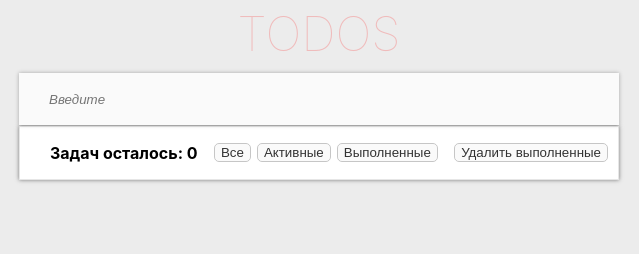
Scenario: Add Task & delete task
The image size is (639, 254).
Type "Пункт 1" into the field with test id "input-data" at [319, 99], box [19,73,619,125]
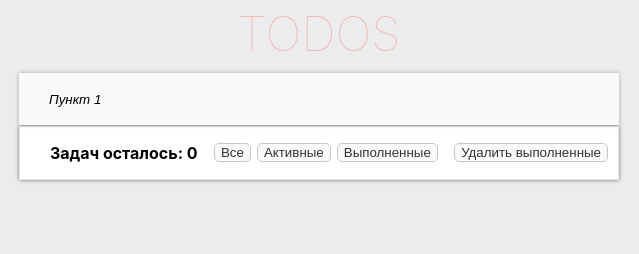
Press Enter in the field with test id "input-data", box [19,73,619,125]
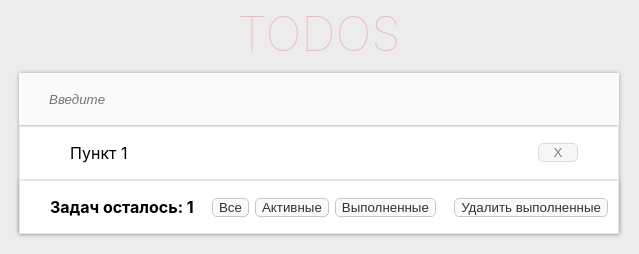
Check: the text with test id "input-result" reads "Пункт 1", box [70,142,128,162]
Click the button with test id "delete-elem" at [558, 152], box [538,143,578,162]
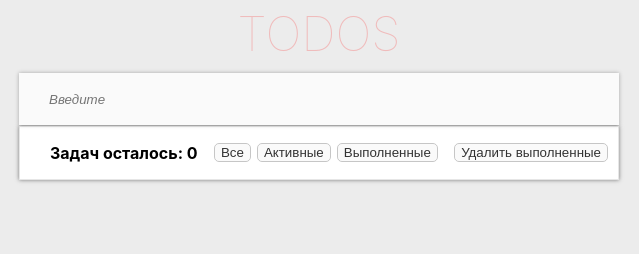
Check: the text with test id "input-result" is gone
